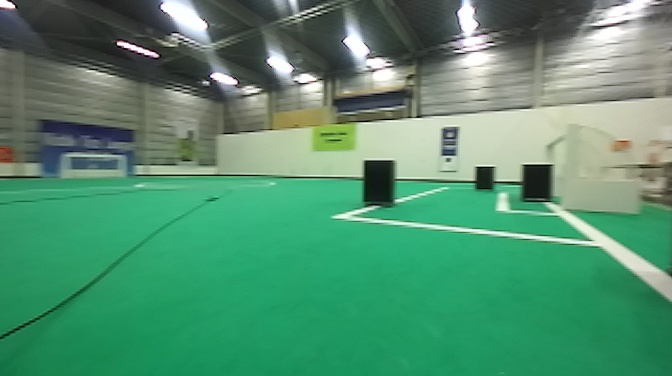goalpost: (560, 132, 578, 210), (543, 148, 551, 168)
